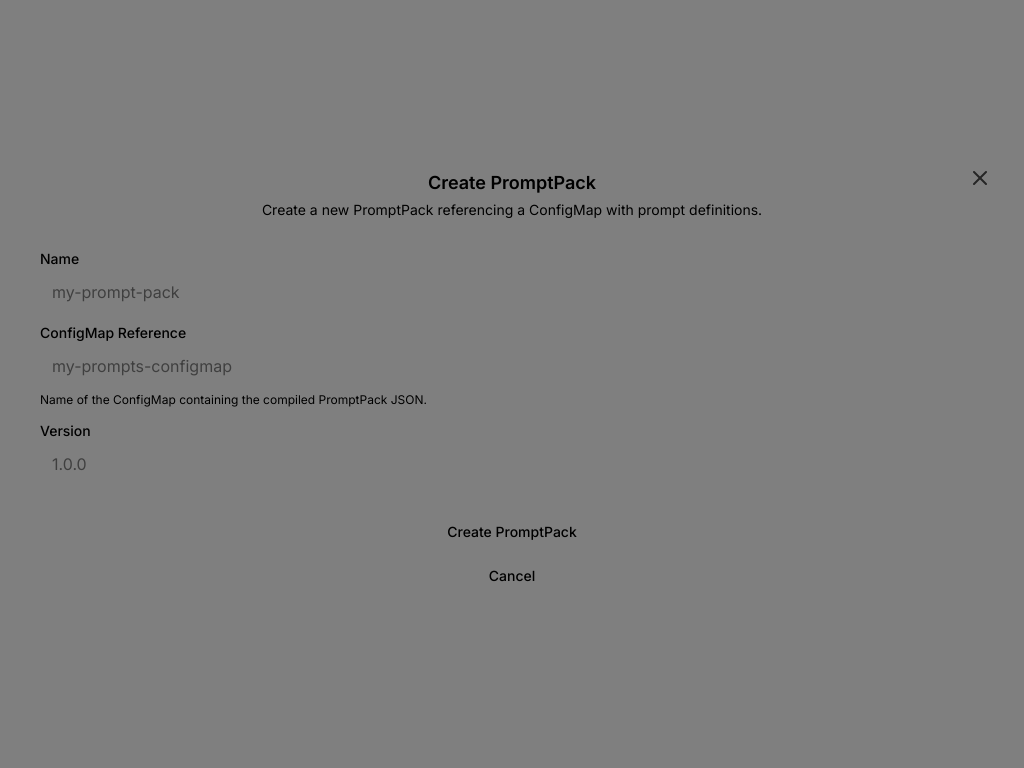
it: PromptPackDialog › shows inline error and blocks submit for an invalid version
The image size is (1024, 768).
Type "not-a-version" into the field labelled "Version".
click(512, 464); type("not-a-version")  # box [40, 446, 984, 482]
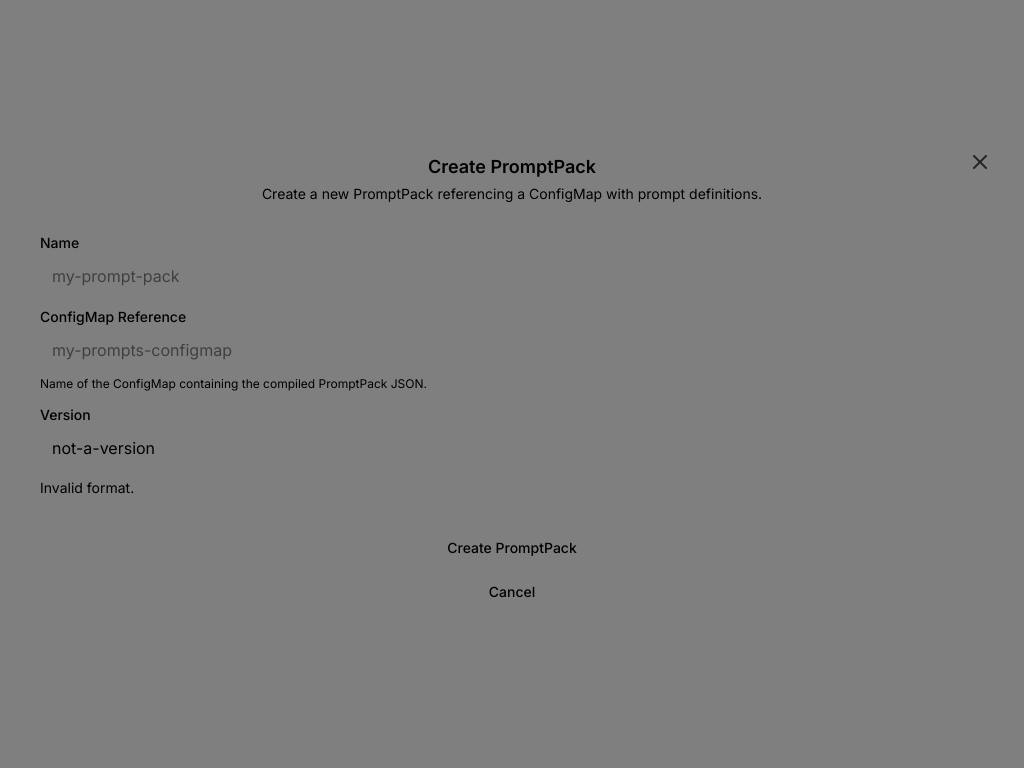
Expected: the text "Invalid format." is shown, [40, 479, 134, 496]
Expected: the button "Create PromptPack" is disabled, [40, 530, 984, 566]
